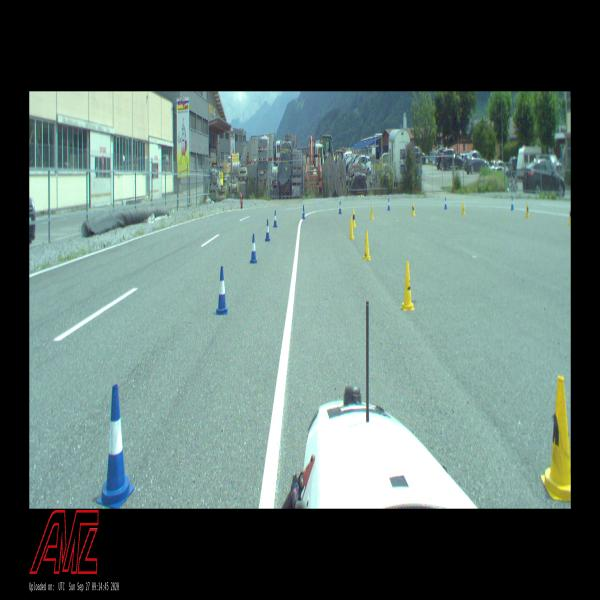blue_cone: (96, 384, 135, 508), (216, 266, 228, 315), (250, 234, 257, 264), (265, 219, 270, 241), (274, 210, 278, 228), (511, 196, 514, 211), (302, 204, 305, 219), (339, 201, 342, 214), (444, 197, 447, 209), (388, 198, 390, 211)
yellow_cone: (541, 376, 571, 502), (401, 262, 415, 311), (362, 230, 371, 260), (348, 218, 354, 240), (525, 202, 530, 219), (352, 209, 356, 228), (370, 205, 374, 220), (412, 202, 416, 216), (462, 201, 465, 215), (569, 206, 570, 226)
